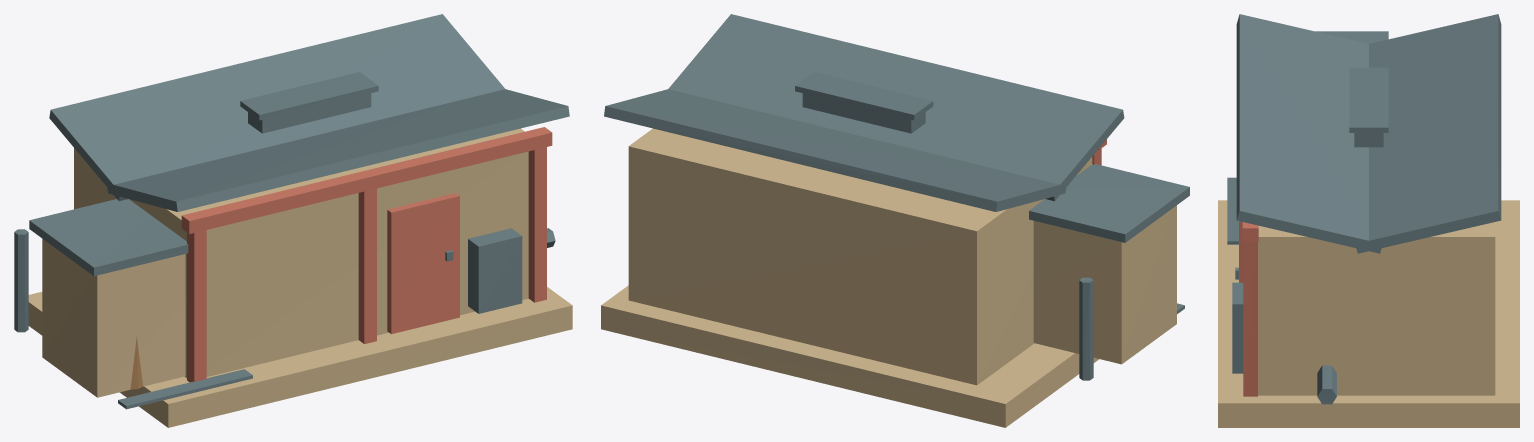
File: Fermentation-House.glb
The picture shows the model from 3 angles, left to right: view 1: azimuth 30°, elevation 25°; view 2: azimuth 150°, elevation 25°; view 3: azimuth 270°, elevation 25°; orthographic projection. The views are drawn at different scales.
Parts seen in each view (by area): view 1: wind-pump-static-fermentation-house-galvanized-roof, wind-pump-static-fermentation-house-cream-plaster, wind-pump-static-fermentation-house-weathered-timber, wind-pump-static-fermentation-house-masonry-base, wind-pump-static-fermentation-house-dark-service-iron; view 2: wind-pump-static-fermentation-house-cream-plaster, wind-pump-static-fermentation-house-galvanized-roof, wind-pump-static-fermentation-house-masonry-base, wind-pump-static-fermentation-house-dark-service-iron; view 3: wind-pump-static-fermentation-house-galvanized-roof, wind-pump-static-fermentation-house-cream-plaster, wind-pump-static-fermentation-house-masonry-base, wind-pump-static-fermentation-house-dark-service-iron, wind-pump-static-fermentation-house-weathered-timber.
Part boxes in pixels (left/top/right/bottom): wind-pump-static-fermentation-house-galvanized-roof: left=29, top=14, right=569, bottom=276; wind-pump-static-fermentation-house-cream-plaster: left=42, top=128, right=528, bottom=397; wind-pump-static-fermentation-house-weathered-timber: left=181, top=127, right=552, bottom=382; wind-pump-static-fermentation-house-masonry-base: left=28, top=287, right=572, bottom=427; wind-pump-static-fermentation-house-dark-service-iron: left=14, top=93, right=555, bottom=409; wind-pump-static-fermentation-house-cream-plaster: left=628, top=128, right=1176, bottom=385; wind-pump-static-fermentation-house-galvanized-roof: left=604, top=14, right=1189, bottom=242; wind-pump-static-fermentation-house-masonry-base: left=601, top=285, right=1099, bottom=427; wind-pump-static-fermentation-house-dark-service-iron: left=802, top=93, right=1184, bottom=380; wind-pump-static-fermentation-house-galvanized-roof: left=1236, top=14, right=1501, bottom=253; wind-pump-static-fermentation-house-cream-plaster: left=1258, top=222, right=1495, bottom=395; wind-pump-static-fermentation-house-masonry-base: left=1218, top=200, right=1519, bottom=427; wind-pump-static-fermentation-house-dark-service-iron: left=1227, top=133, right=1383, bottom=404; wind-pump-static-fermentation-house-weathered-timber: left=1239, top=221, right=1258, bottom=396.
Size of the model in its own units: 4.74 by 2.11 by 2.45.
